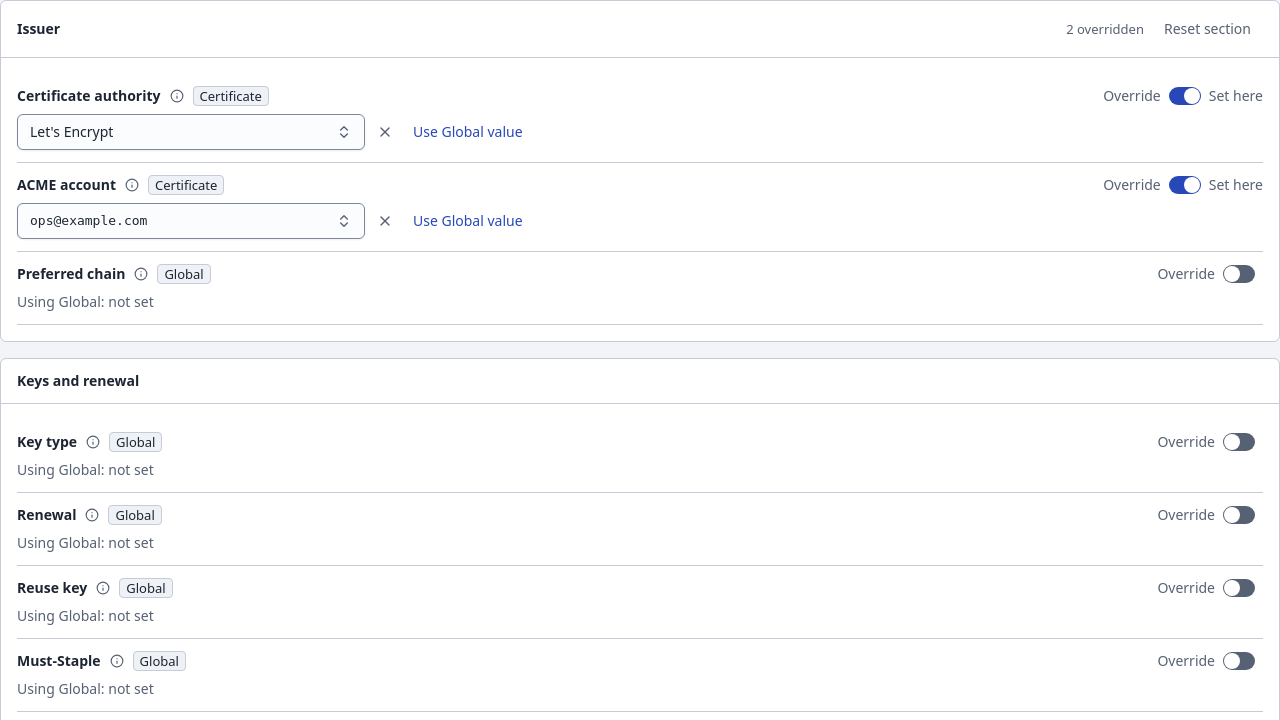
Test: IssuanceDefaultsForm disables the account field for a private effective CA › choosing private CA clears account override
The image size is (1280, 720).
expect the switch named "Override ACME account" is checked: met, box [1169, 176, 1201, 194]
Click the dropdown named "Certificate authority".
click(72, 132)  # box [17, 114, 365, 150]
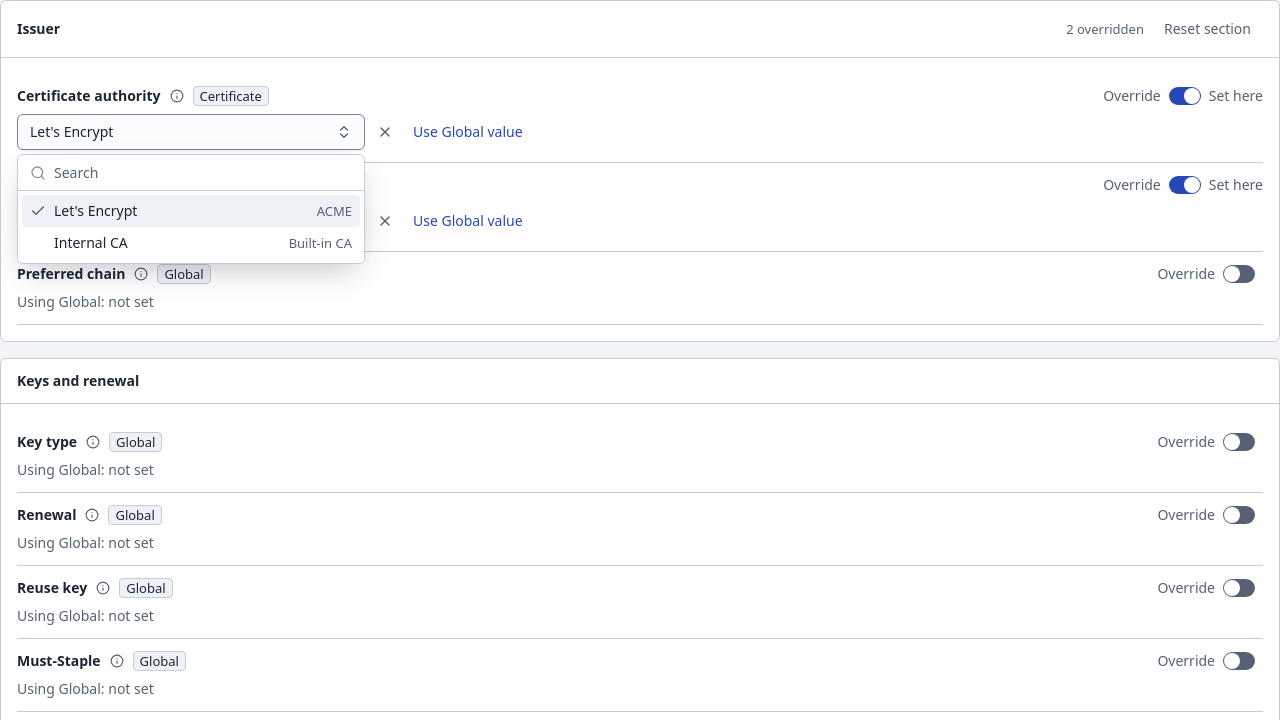
Click the text "Internal CA".
click(91, 243)  # box [54, 233, 128, 253]
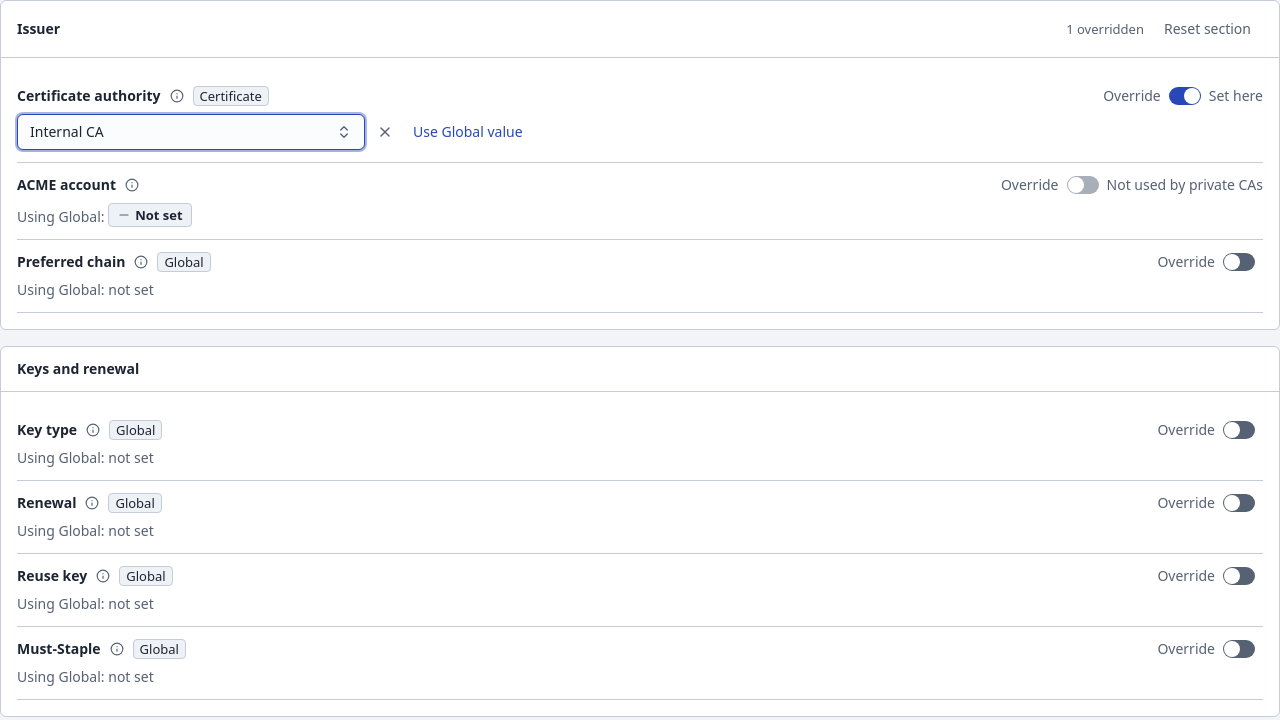
expect the switch named "Override ACME account" is not checked: met, box [1066, 176, 1098, 194]
expect the switch named "Override ACME account" is disabled: met, box [1066, 176, 1098, 194]
